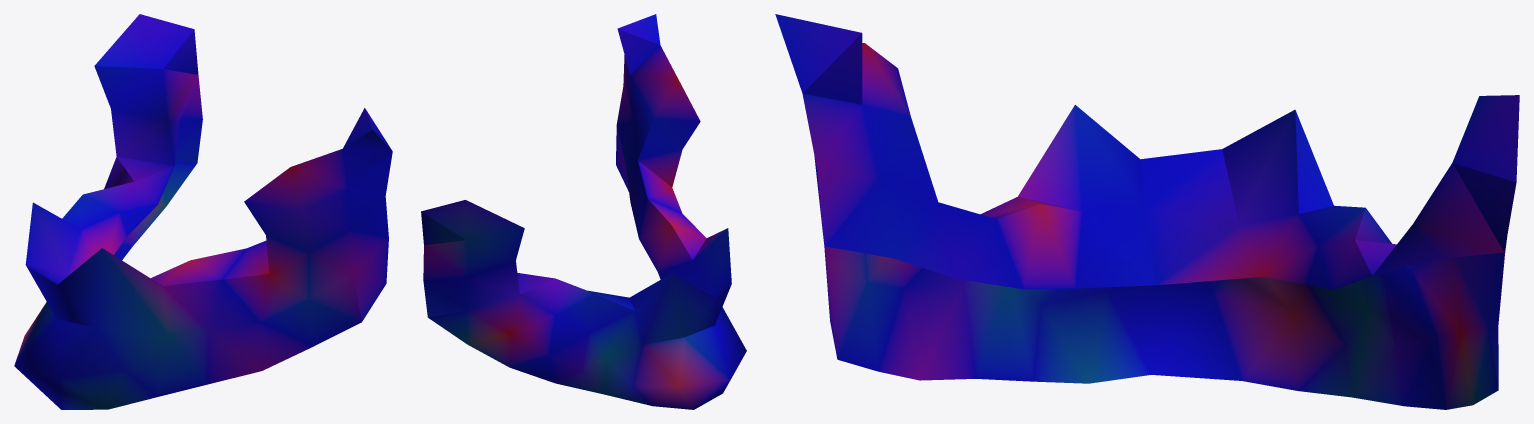
Rendered from sertz__uni_skull2.glb.
The picture shows the model from 3 angles, left to right: view 1: azimuth 30°, elevation 25°; view 2: azimuth 150°, elevation 25°; view 3: azimuth 270°, elevation 25°; orthographic projection. The views are drawn at different scales.
Parts seen in each view (by area): view 1: uni_skull2; view 2: uni_skull2; view 3: uni_skull2.
Boxes of the visible parts, bbox=[...] form: uni_skull2: bbox=[14, 14, 392, 409]; uni_skull2: bbox=[421, 14, 746, 409]; uni_skull2: bbox=[775, 14, 1519, 409].
Bounding box in the file's own units: 54.52 × 59.96 × 78.34.
